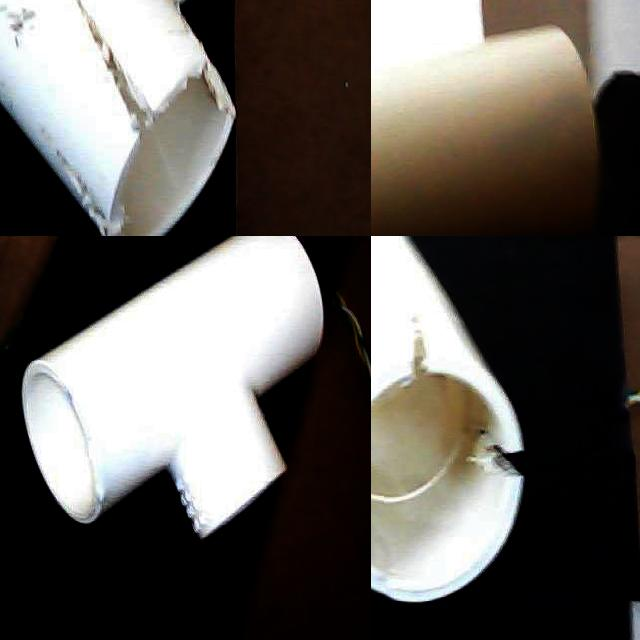Defective: (79, 6, 179, 170), (42, 136, 132, 236), (371, 313, 452, 417), (476, 410, 533, 493), (187, 39, 235, 130)
T Joint: (20, 236, 325, 545), (371, 236, 527, 606), (371, 25, 603, 236)
